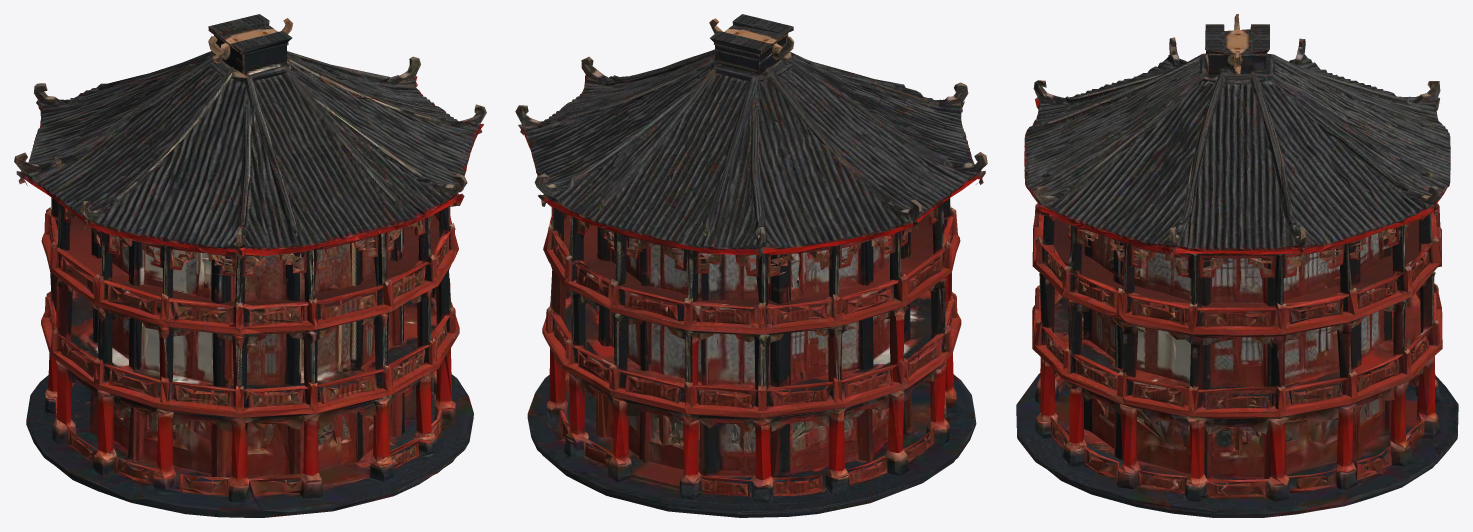
The model's file is library_tower.glb.
The picture shows the model from 3 angles, left to right: view 1: azimuth 30°, elevation 25°; view 2: azimuth 150°, elevation 25°; view 3: azimuth 270°, elevation 25°; orthographic projection.
Bounding box in the file's own units: 1.9 × 1.78 × 1.81.
1 material, 1 textured.
